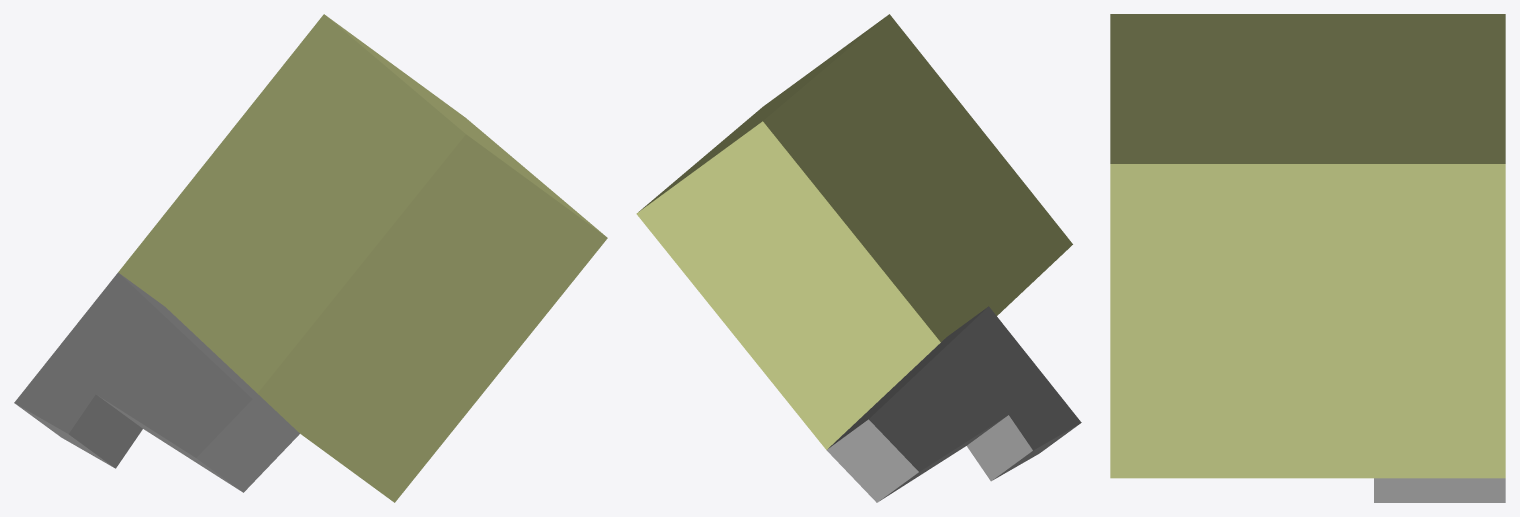
3 views of the same model, side by side, from view 1: azimuth 30°, elevation 25°; view 2: azimuth 150°, elevation 25°; view 3: azimuth 270°, elevation 25° (orthographic). The views are drawn at different scales.
Parts seen in each view (by area): view 1: 0_1_1_3_3_1_0_3_3_2; view 2: 0_1_1_3_3_1_0_3_3_2; view 3: 0_1_1_3_3_1_0_3_3_2.
Boxes of the visible parts, <box> form: 0_1_1_3_3_1_0_3_3_2: <box>14,14,607,502</box>; 0_1_1_3_3_1_0_3_3_2: <box>636,14,1081,502</box>; 0_1_1_3_3_1_0_3_3_2: <box>1110,14,1505,502</box>.
Size of the model in its own units: 16.55 by 14.46 by 9.
